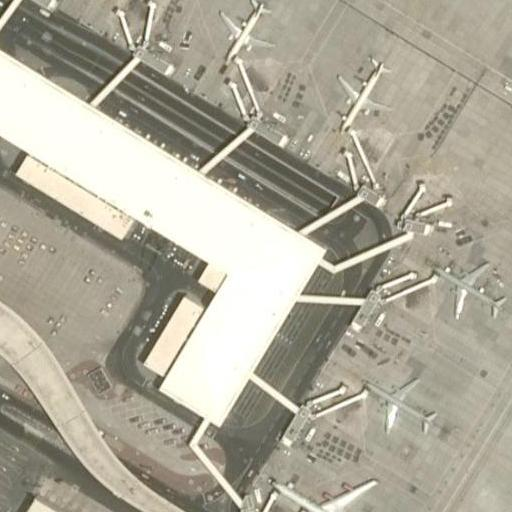Aircraft: (270, 470, 398, 512), (361, 369, 442, 433), (433, 254, 508, 319), (334, 52, 393, 128), (214, 0, 274, 64)
